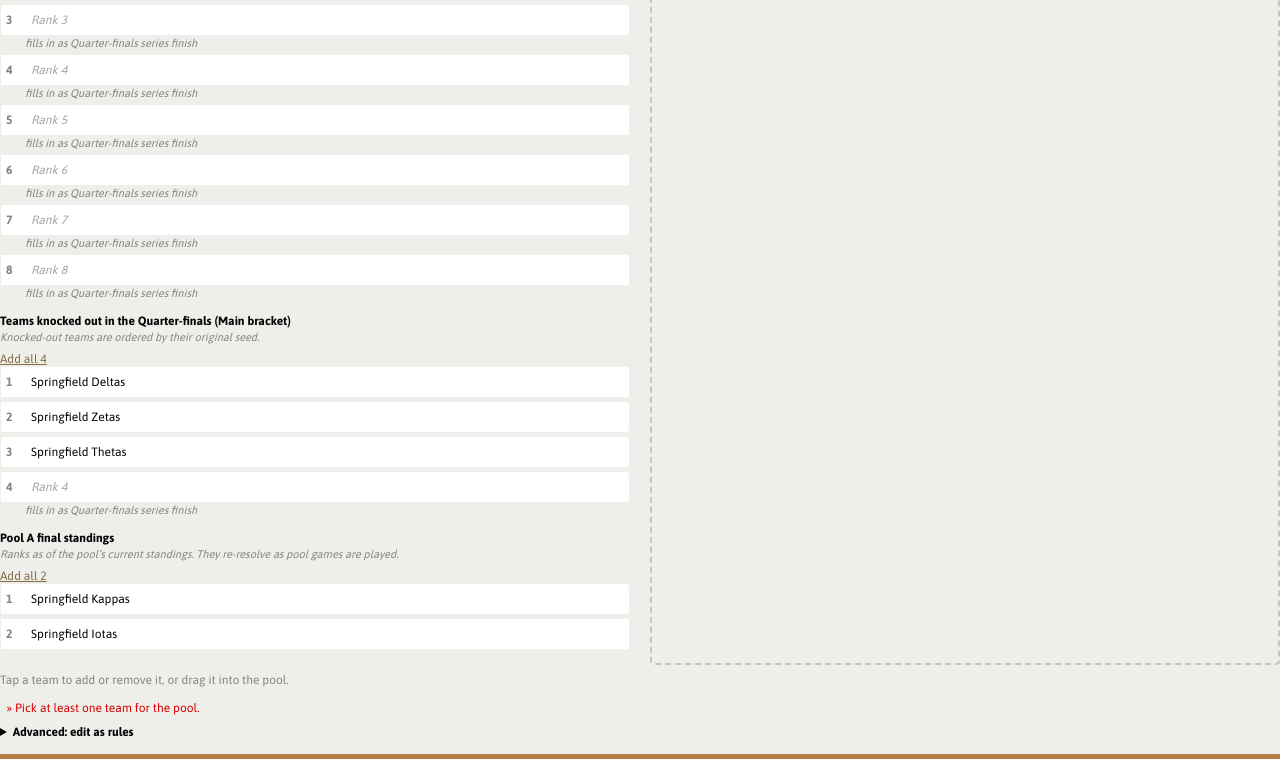
Test: TournamentPoolForm › "Add all" on the knocked-out teams source fills a consolation pool in one tap
(page scrolled)
Click the button "Add all 4": (23, 359) [0, 352, 47, 366]
(page scrolled)
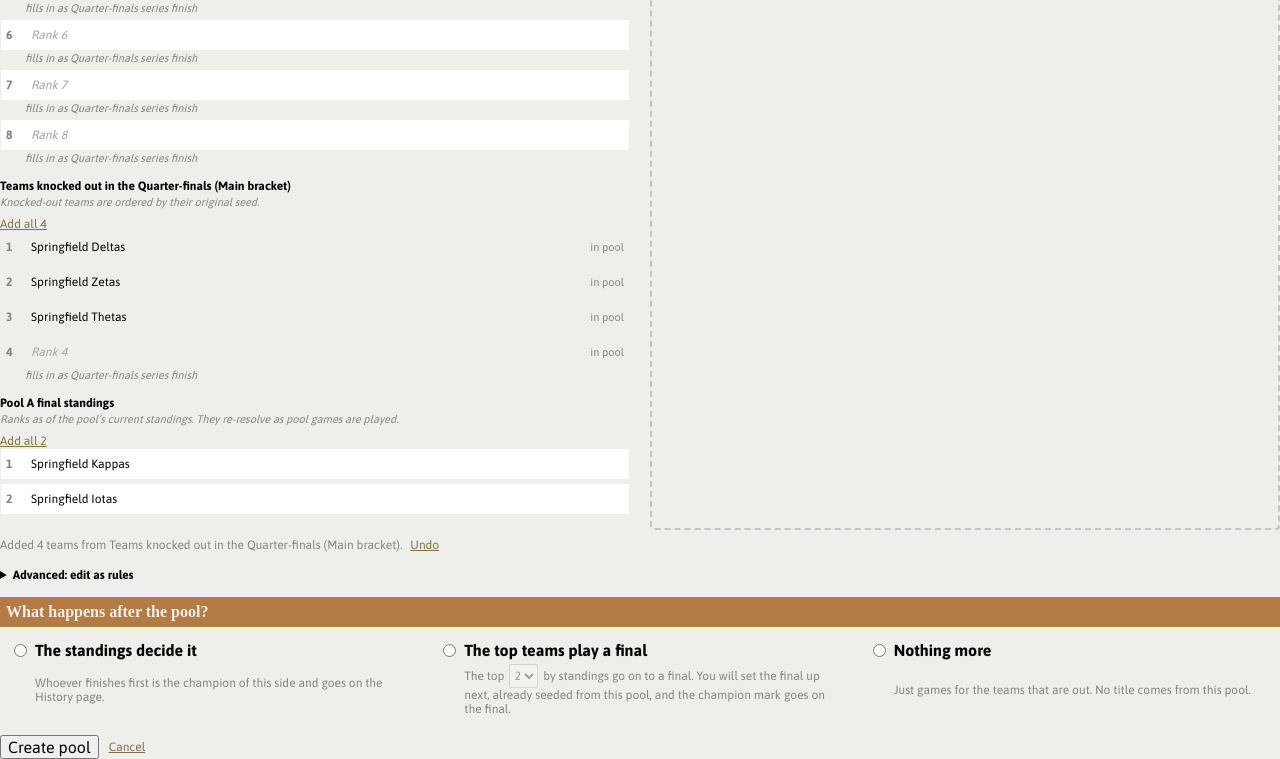
expect the list item "Pick at least one team for the pool." is gone: met
expect the button "Create pool" is enabled: met, box [0, 735, 99, 758]
